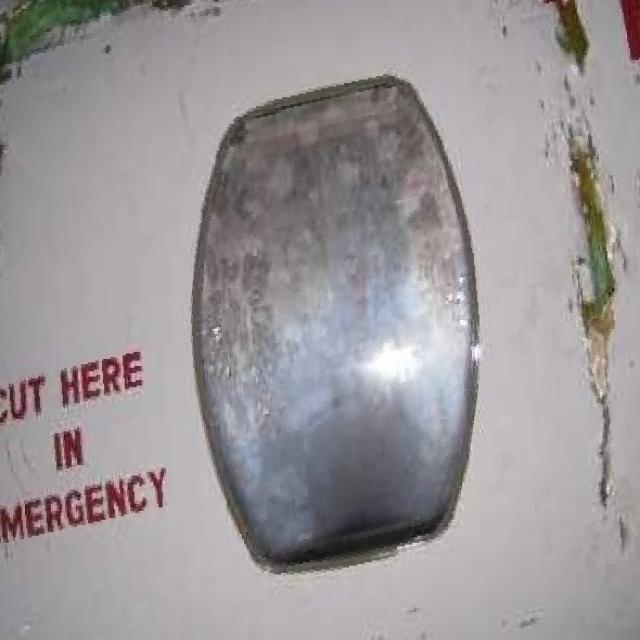crack: (569, 136, 620, 515)
